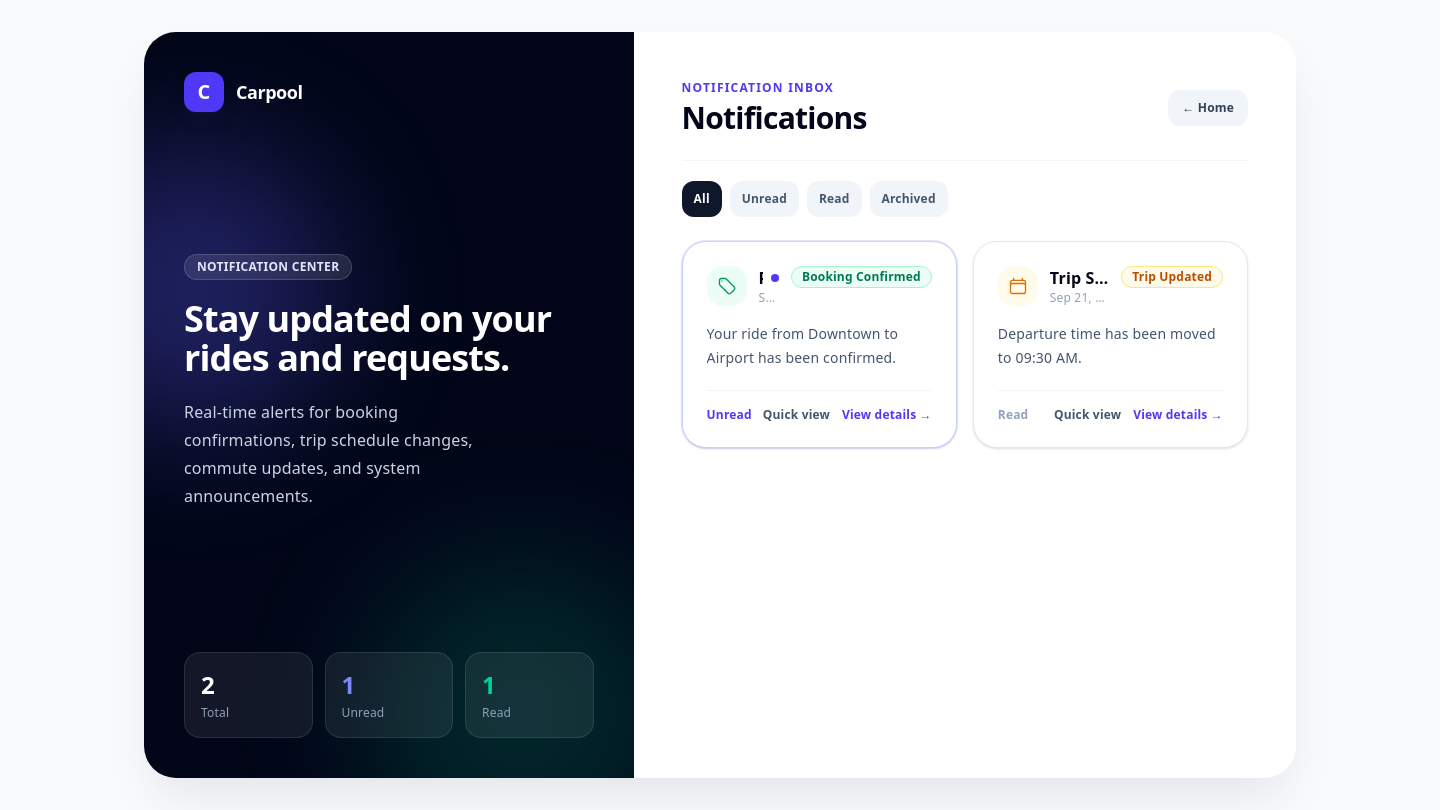
Test case: NotificationsPage › opens quick view modal when clicking Quick view button
The image size is (1440, 810).
expect the heading "Ride Booking Confirmed" is shown: met, box [759,266,763,290]
Click the button "Quick view" below "Sep 21, 10:00 AM" at (796, 415), box [763,407,830,423]
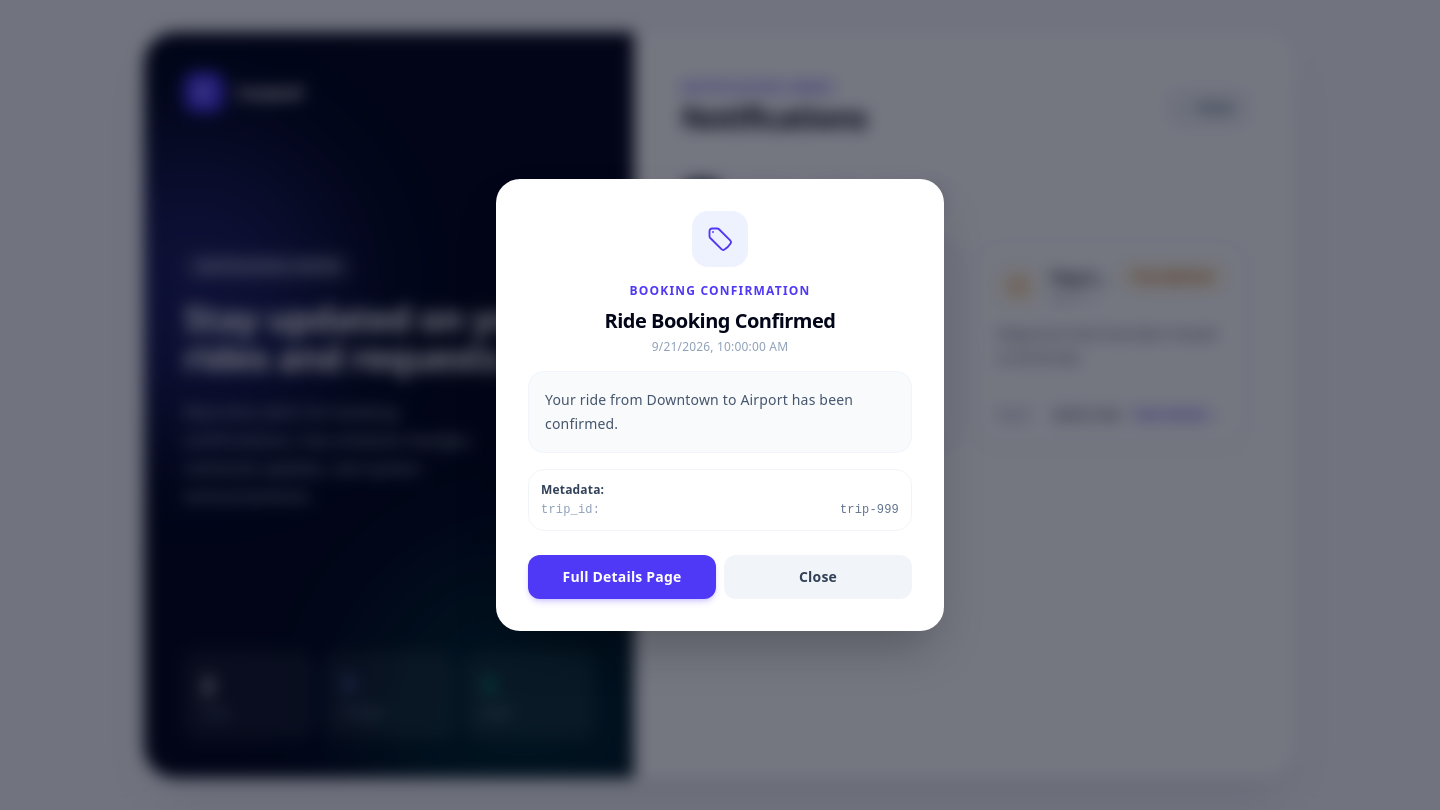
expect the dialog is shown: met
expect the heading "Ride Booking Confirmed" is shown: met, box [604,307,836,334]
Click the button "Close" at (818, 577), box [724,555,912,599]
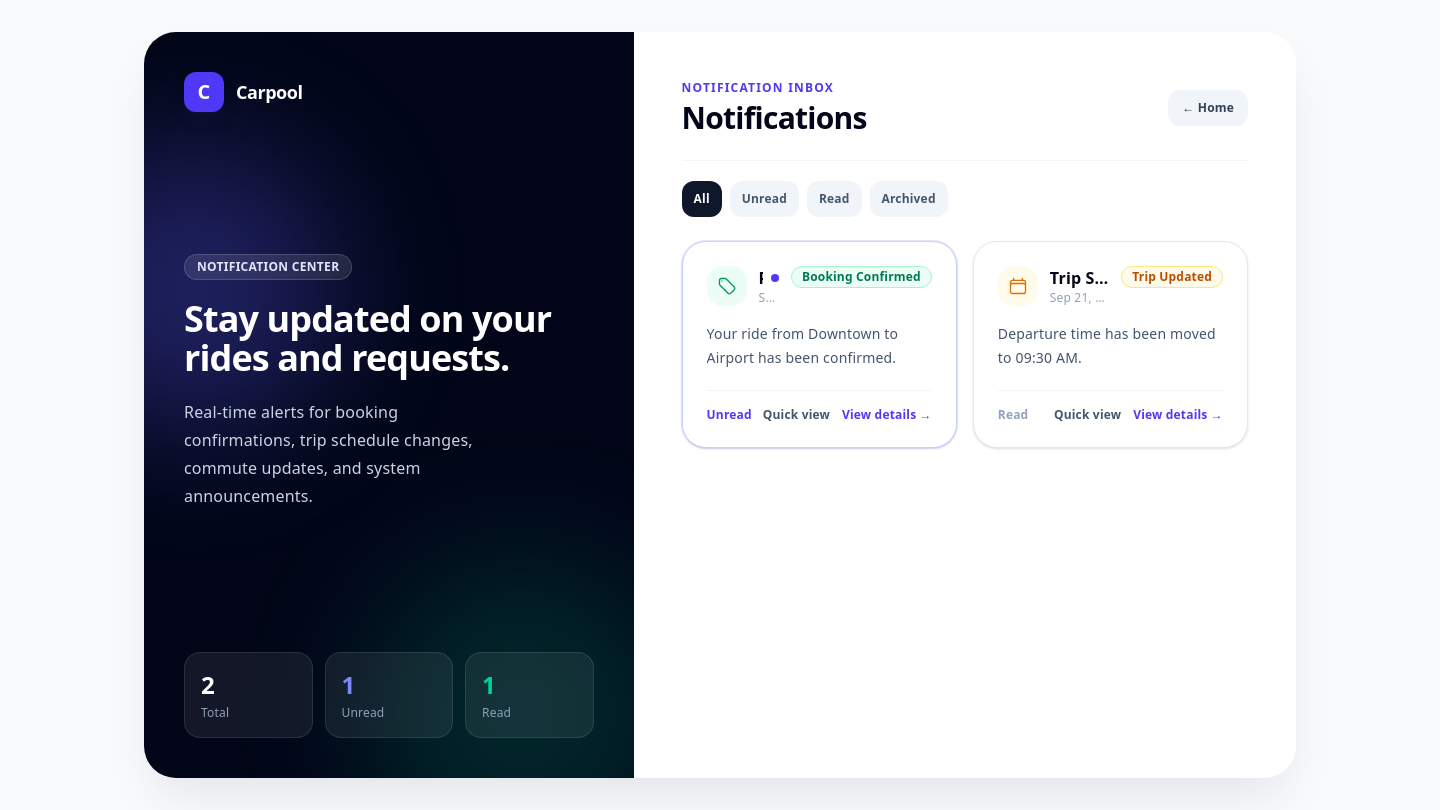
expect the dialog is gone: met
